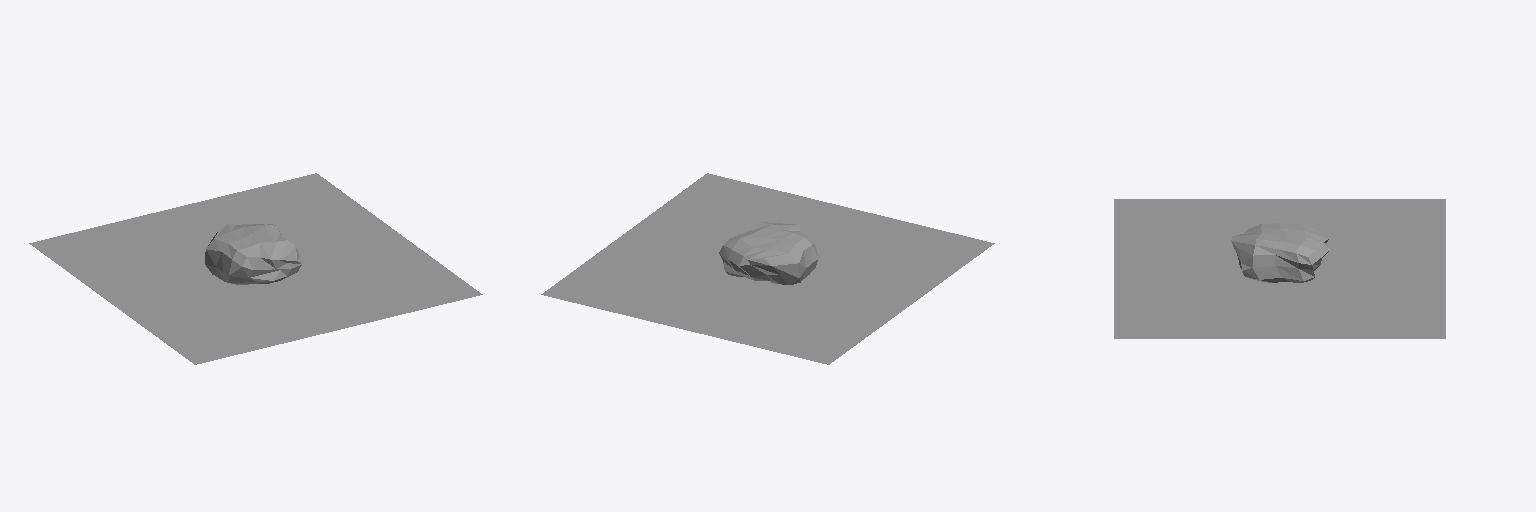
File: rock1.obj
3 views of the same model, side by side, from view 1: azimuth 30°, elevation 25°; view 2: azimuth 150°, elevation 25°; view 3: azimuth 270°, elevation 25° (orthographic).
Visible parts, largest first — view 1: Plane, Cube; view 2: Plane, Cube; view 3: Plane, Cube.
Part boxes in pixels (bbox=[...]): Plane: bbox=[29, 173, 482, 364]; Cube: bbox=[205, 224, 301, 284]; Plane: bbox=[541, 173, 994, 364]; Cube: bbox=[719, 222, 818, 284]; Plane: bbox=[1114, 199, 1445, 338]; Cube: bbox=[1231, 223, 1329, 282].
Size of the model in its own units: 12.17 by 1.68 by 12.17.